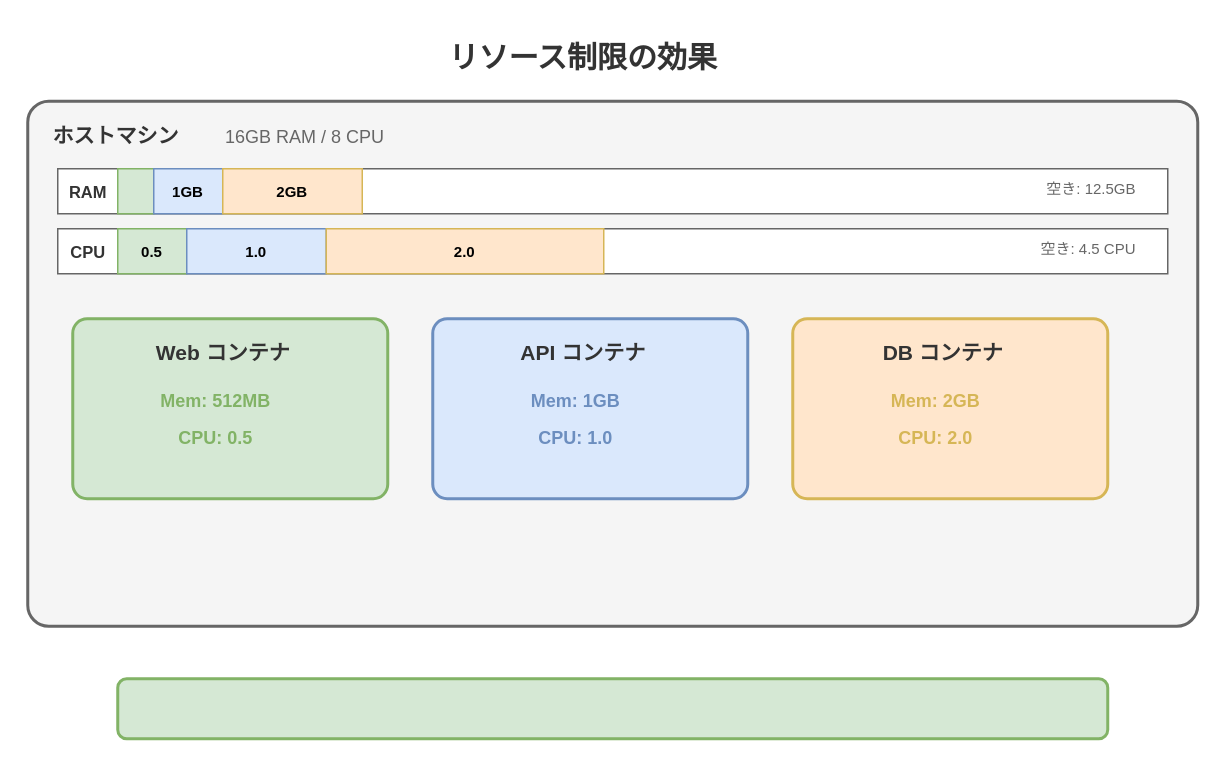
This 1224x765 diagram has some shape labels left out. The shapes that lost their labels are listed below. From the top down, each one's box as (x1, y1, x2, y2) in pixels, then its label:
(116, 167, 154, 214): 512MB
(116, 676, 1108, 740): 各コンテナは制限を超えてリソースを使用できない → システム全体の安定性が保たれる
